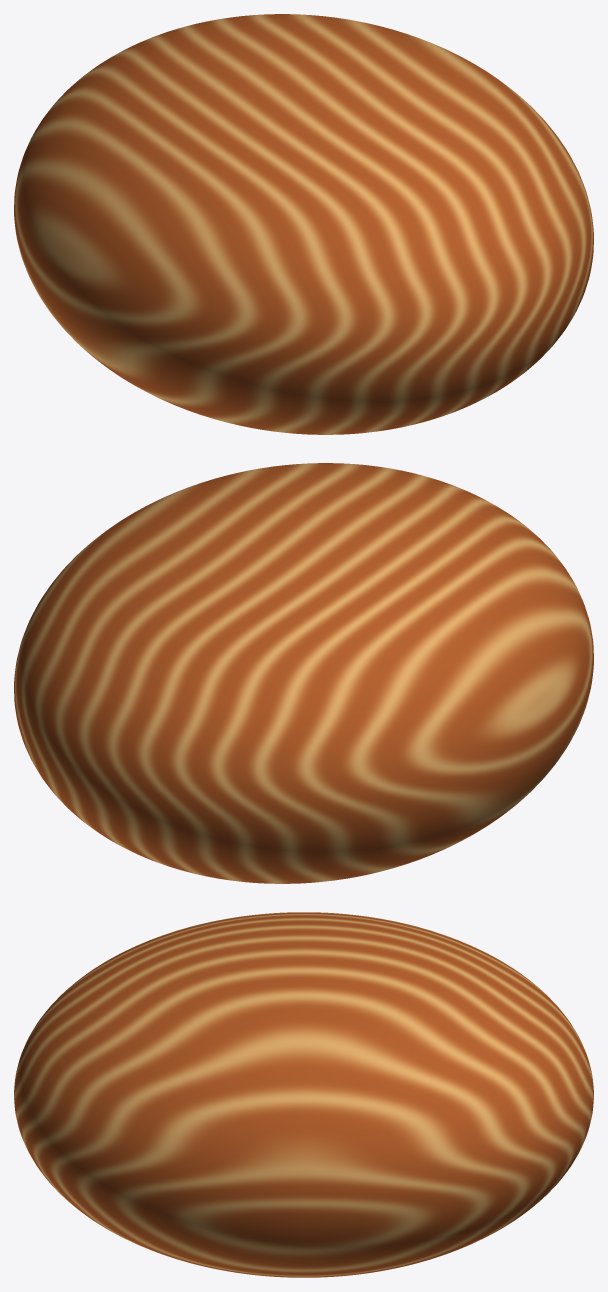
The model's file is banded-agate.glb.
The picture shows the model from 3 angles, top to bottom: view 1: azimuth 30°, elevation 25°; view 2: azimuth 150°, elevation 25°; view 3: azimuth 270°, elevation 25°; orthographic projection. The views are drawn at different scales.
Parts seen in each view (by area): view 1: banded-agate.001; view 2: banded-agate.001; view 3: banded-agate.001.
Part boxes in pixels (left/top/right/bottom): banded-agate.001: left=14, top=14, right=593, bottom=434; banded-agate.001: left=14, top=463, right=593, bottom=883; banded-agate.001: left=14, top=912, right=593, bottom=1277.
Bounding box in the file's own units: 2.17 × 1.41 × 2.5.
Materials: 1 (1 with a texture image).
